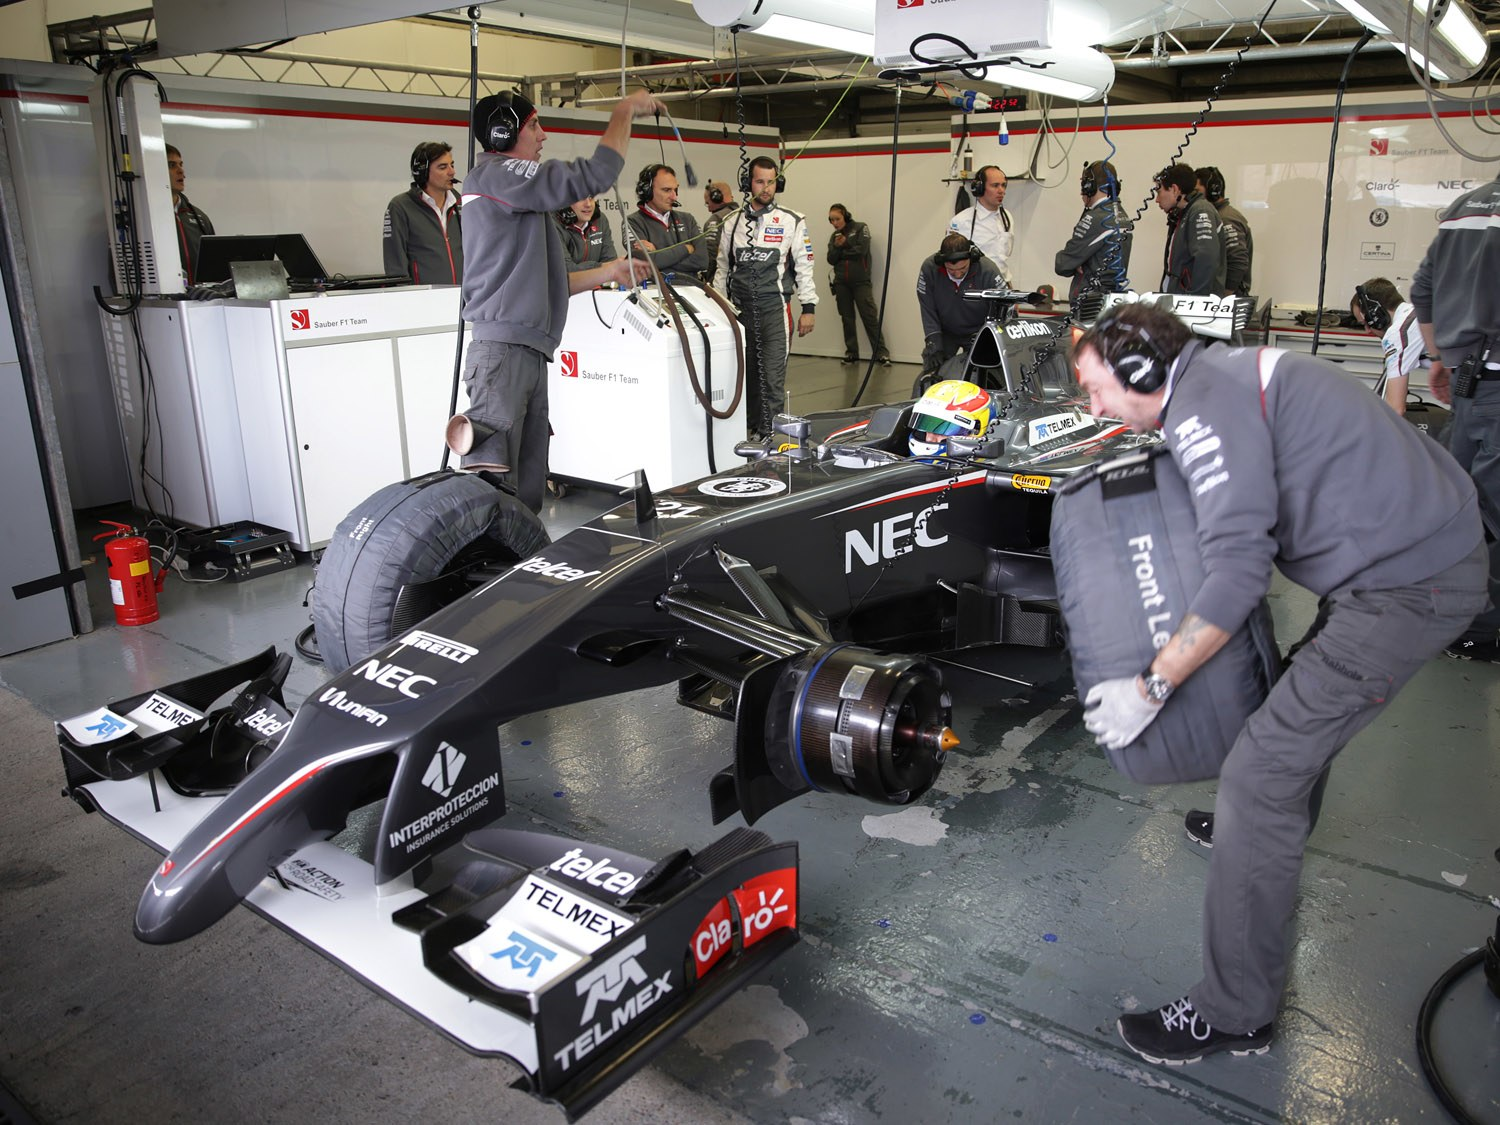f1_car: (26, 278, 1273, 1125)
helmet: (898, 362, 1004, 482)
